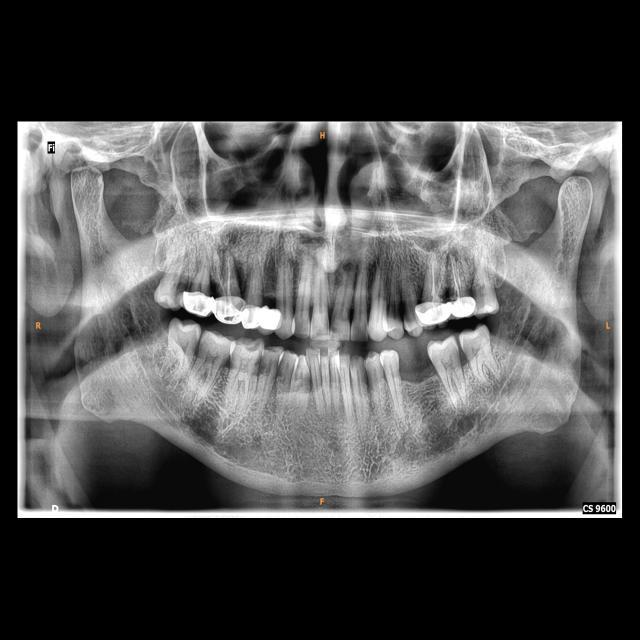kanal-tedavisi: (417, 253, 443, 305), (447, 257, 467, 302), (214, 258, 234, 298)
kaplama: (414, 299, 454, 326), (184, 287, 216, 318), (216, 294, 244, 328), (450, 290, 474, 318), (242, 305, 260, 329)
kopru: (253, 302, 289, 336)
